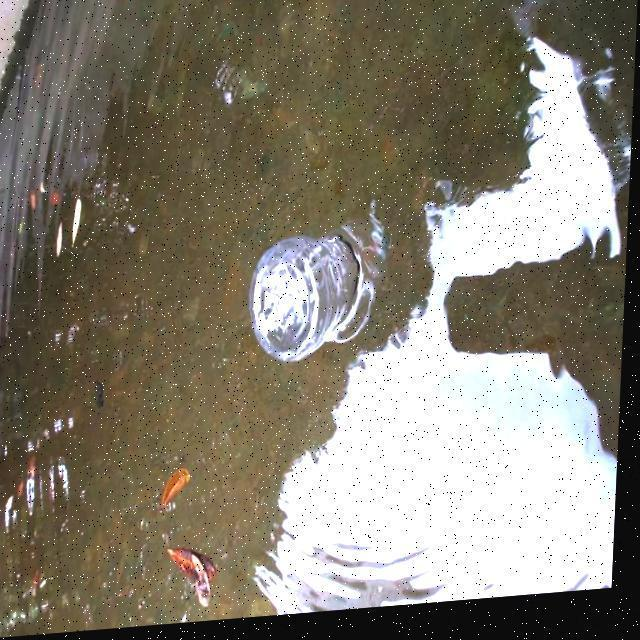Bottle: (242, 221, 394, 367)
